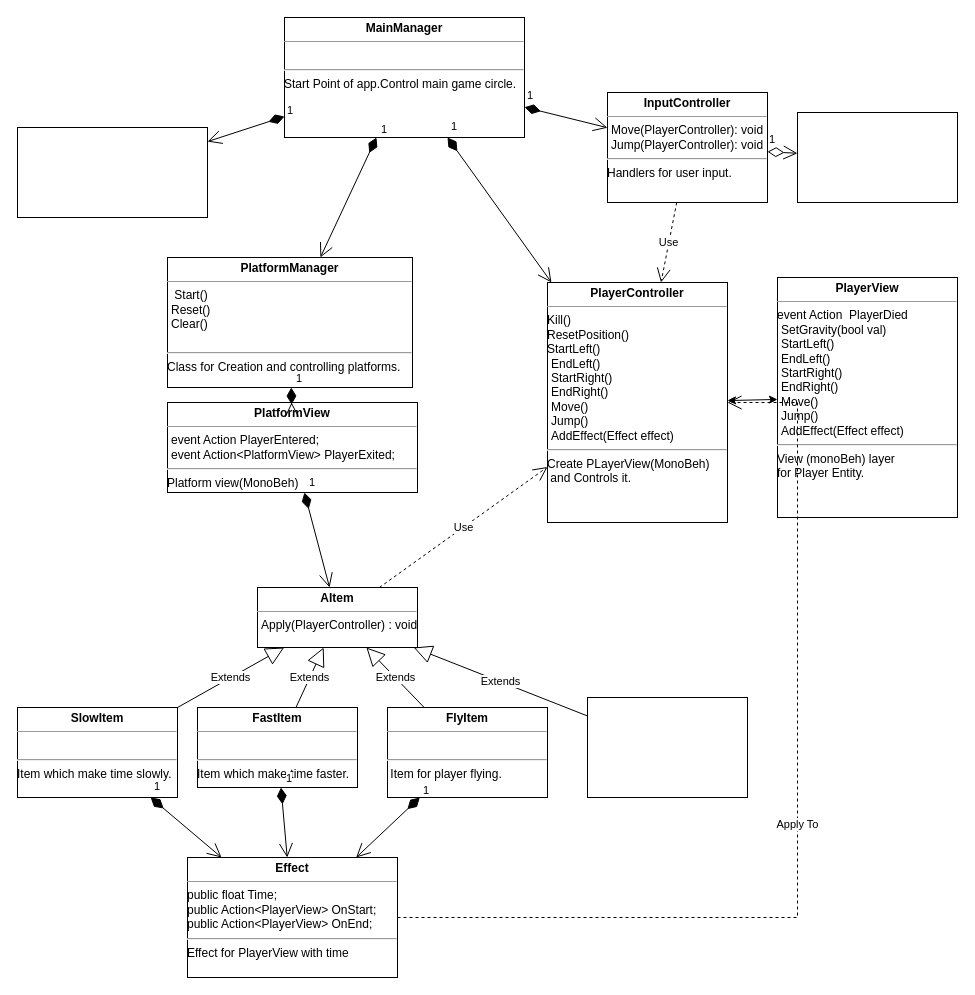
The diagram is 975 pixels wide and 995 high, and some of its shapes have lost their labels. The shapes that lost their labels are listed below. From the top down, each one's centre as x and y in pixels, then its label:
point 112,172: CameraController Move(): void Control Camera position by Player.
point 877,157: UserInput Autmatic Generation Class with input shema
point 667,747: KillItem Item which Kill player.
